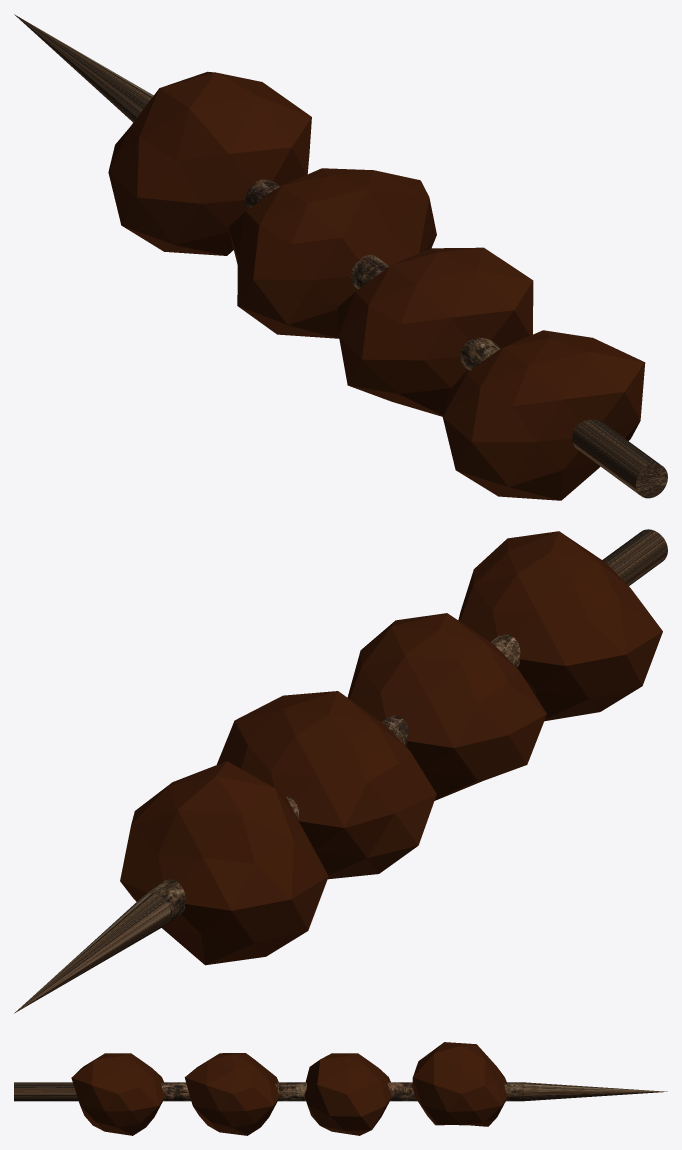
File: SateCooked.gltf
3 renders of one model, top to bottom at view 1: azimuth 30°, elevation 25°; view 2: azimuth 150°, elevation 25°; view 3: azimuth 270°, elevation 25°, orthographic. The views are drawn at different scales.
Parts seen in each view (by area): view 1: Cylinder.005; view 2: Cylinder.005; view 3: Cylinder.005.
Boxes of the visible parts, bbox=[...] form: Cylinder.005: bbox=[14, 14, 667, 500]; Cylinder.005: bbox=[14, 529, 667, 1013]; Cylinder.005: bbox=[14, 1042, 667, 1135].
Size of the model in its own units: 1 by 0.8262 by 5.7.
Materials: 2 (1 with a texture image).
